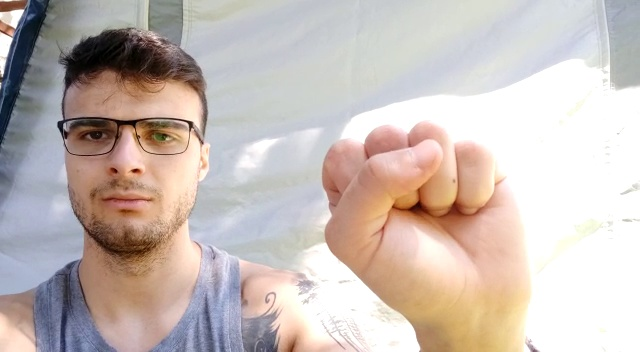Fist: (317, 120, 530, 314)
